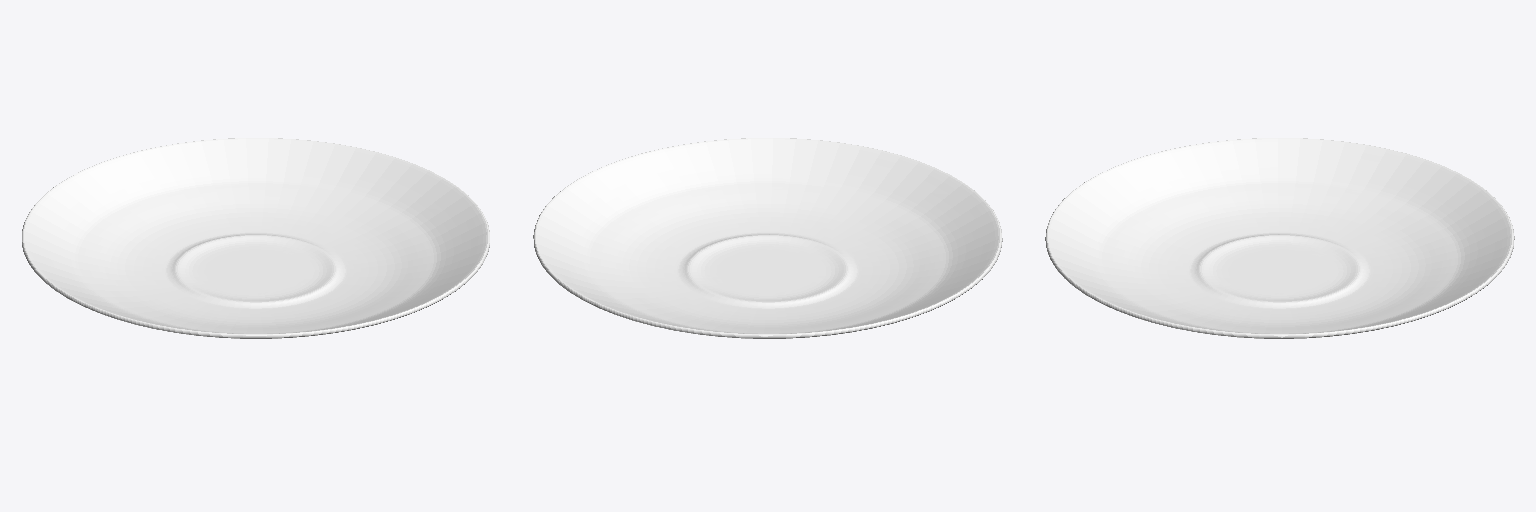
File: coffee_plate.obj
3 views of the same model, side by side, from view 1: azimuth 30°, elevation 25°; view 2: azimuth 150°, elevation 25°; view 3: azimuth 270°, elevation 25° (orthographic).
Visible parts, largest first — view 1: Coffee_plate_Circle; view 2: Coffee_plate_Circle; view 3: Coffee_plate_Circle.
Part boxes in pixels (left/top/right/bottom): Coffee_plate_Circle: left=22, top=138, right=489, bottom=338; Coffee_plate_Circle: left=533, top=138, right=1002, bottom=338; Coffee_plate_Circle: left=1045, top=138, right=1514, bottom=338.
Size of the model in its own units: 0.1459 by 0.0136 by 0.1459.